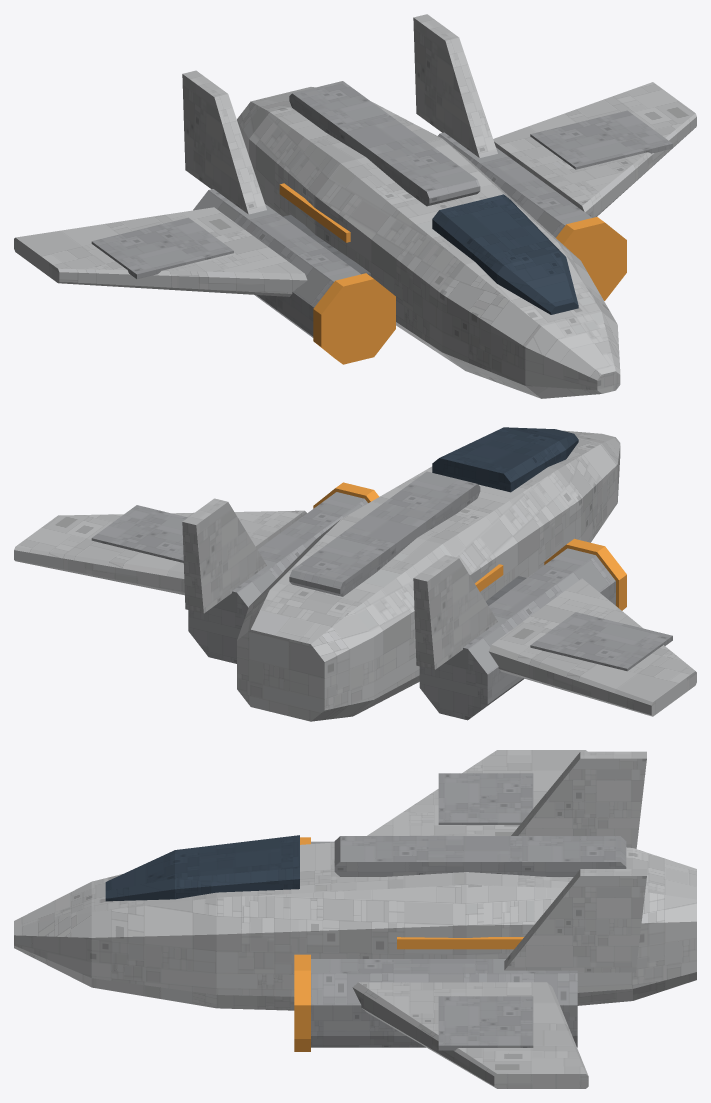
The model's file is shuttle_lod2.glb.
The picture shows the model from 3 angles, top to bottom: view 1: azimuth 30°, elevation 25°; view 2: azimuth 150°, elevation 25°; view 3: azimuth 270°, elevation 25°; orthographic projection. The views are drawn at different scales.
Parts seen in each view (by area): view 1: shuttle_shuttle_body.002, shuttle_shuttle_trim.002; view 2: shuttle_shuttle_body.002, shuttle_shuttle_trim.002; view 3: shuttle_shuttle_body.002, shuttle_shuttle_trim.002.
Boxes of the visible parts, x1,y1,x2,y2 form: shuttle_shuttle_body.002: (14, 14, 696, 398); shuttle_shuttle_trim.002: (279, 183, 626, 364); shuttle_shuttle_body.002: (14, 427, 696, 721); shuttle_shuttle_trim.002: (313, 482, 626, 610); shuttle_shuttle_body.002: (14, 750, 696, 1088); shuttle_shuttle_trim.002: (294, 837, 523, 1051).
Size of the model in its own units: 2.76 by 0.7 by 2.46.
2 materials, 1 textured.
